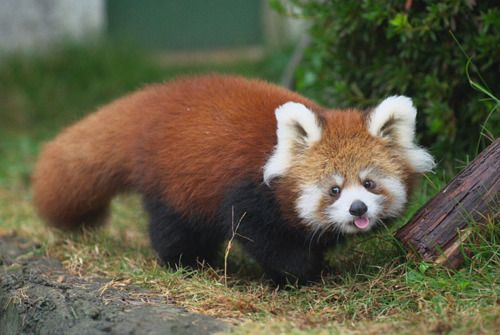red_panda: (50, 77, 408, 282)
